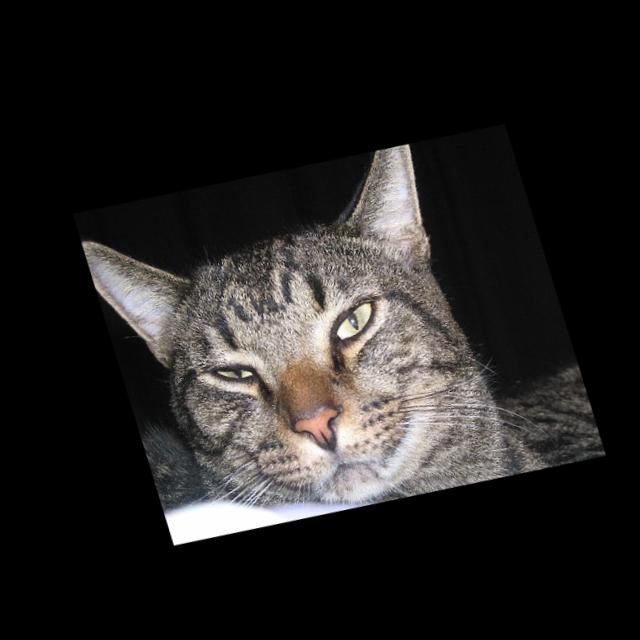animals: (65, 130, 477, 487)
